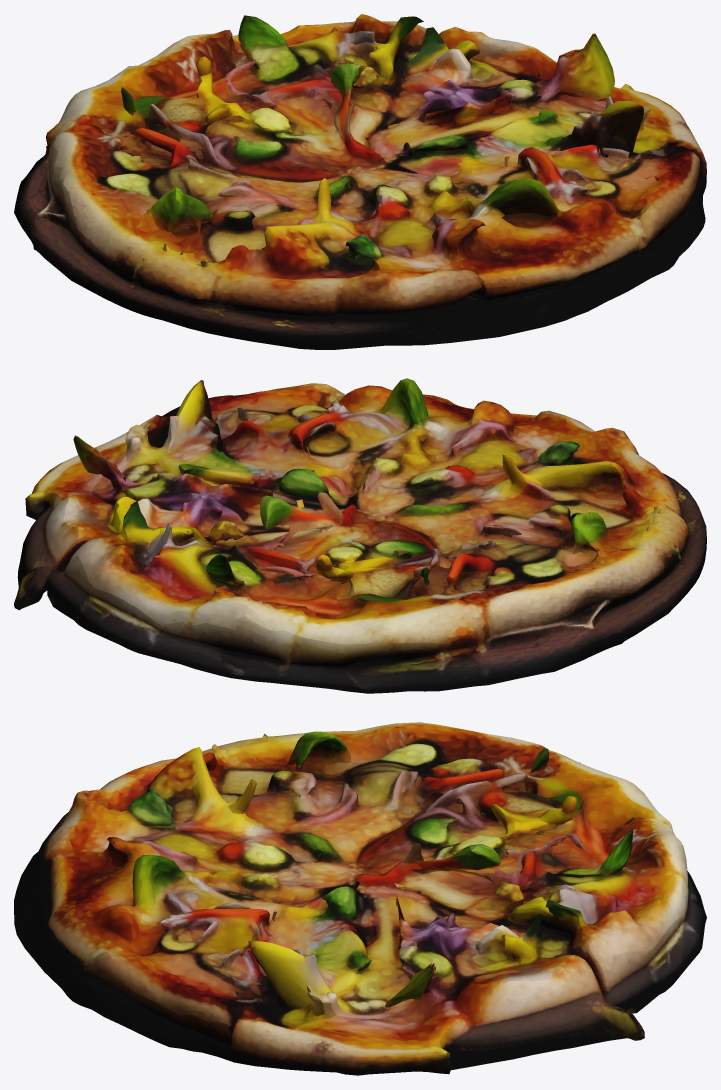
Rendered from item-3d-15703c00-5fde-44e9-9d45-bc00d15b6144.glb.
3 renders of one model, top to bottom at view 1: azimuth 30°, elevation 25°; view 2: azimuth 150°, elevation 25°; view 3: azimuth 270°, elevation 25°, orthographic. The views are drawn at different scales.
Parts seen in each view (by area): view 1: world; view 2: world; view 3: world.
Part boxes in pixels (<box>): world: <box>14,14,706,349</box>; world: <box>14,378,706,693</box>; world: <box>14,722,706,1075</box>.
Bounding box in the file's own units: 0.28 × 0.0446 × 0.2622.
Materials: 1 (1 with a texture image).
